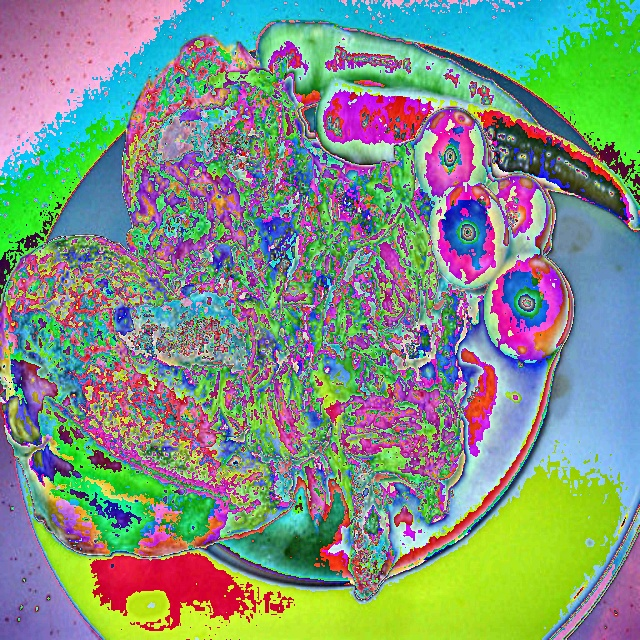background: (0, 20, 640, 598)
